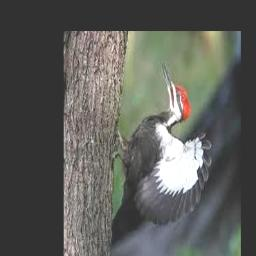Woodpecker: (113, 61, 212, 228)
